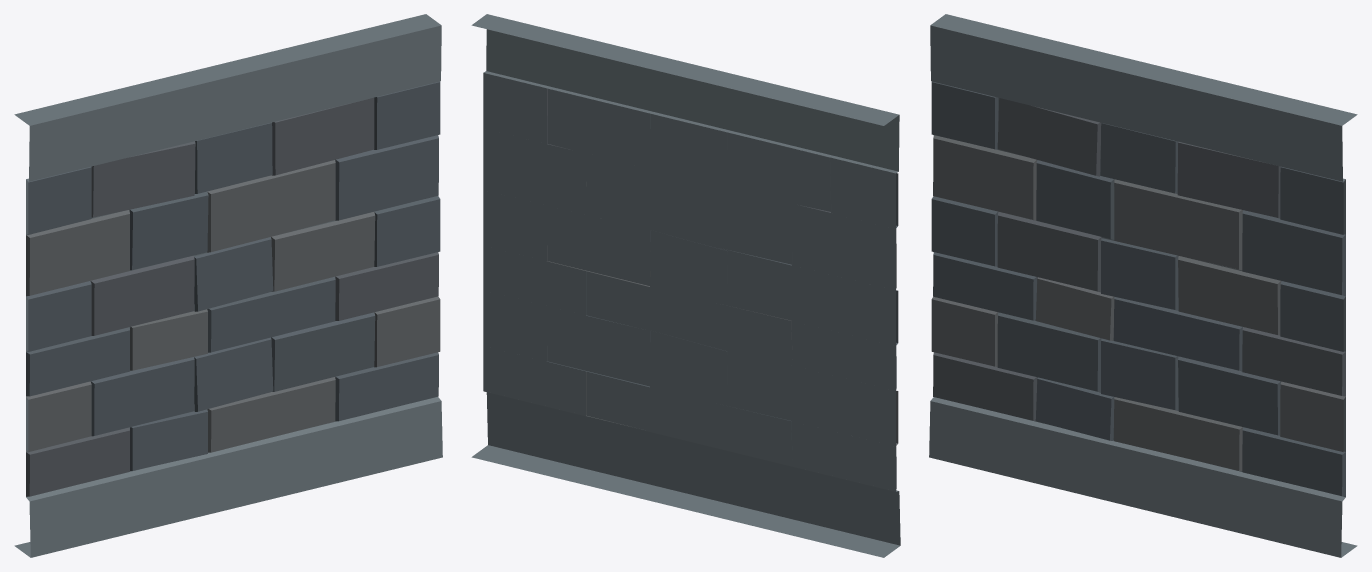
File: Wall_1.fbx
3 renders of one model, left to right at view 1: azimuth 30°, elevation 25°; view 2: azimuth 150°, elevation 25°; view 3: azimuth 330°, elevation 25°, orthographic.
Visible parts, largest first — view 1: Wall_1; view 2: Wall_1; view 3: Wall_1.
Part boxes in pixels (x1,y1,x2,y2): Wall_1: (14, 14, 442, 557); Wall_1: (471, 14, 900, 557); Wall_1: (929, 14, 1357, 557).
Bounding box in the file's own units: 200 × 200 × 14.04.
